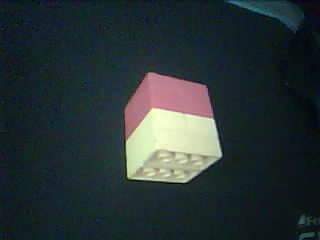lego: (126, 73, 223, 182)
